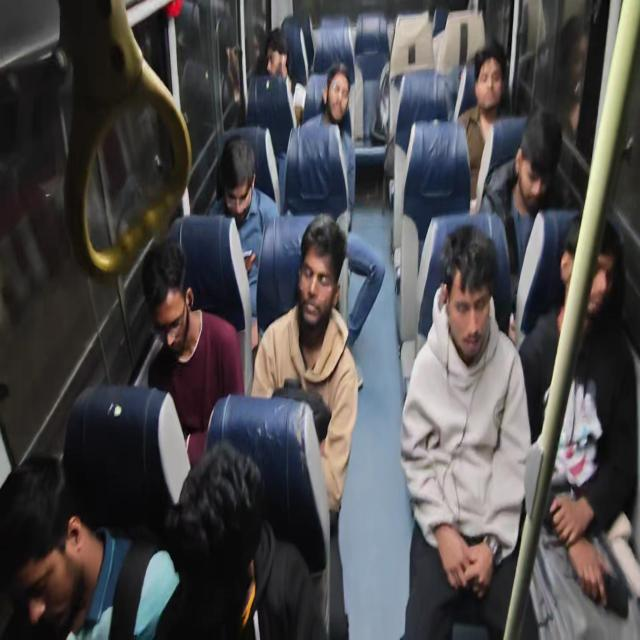person: (400, 223, 532, 638), (518, 216, 638, 638), (250, 213, 359, 636), (1, 452, 180, 639), (298, 61, 386, 350), (141, 238, 245, 468), (152, 440, 264, 638), (478, 106, 564, 336), (0, 452, 83, 639), (207, 136, 279, 348), (60, 513, 180, 639), (299, 61, 356, 224), (456, 42, 510, 207), (551, 14, 590, 142), (264, 27, 306, 128), (304, 61, 352, 133), (264, 27, 289, 80)
